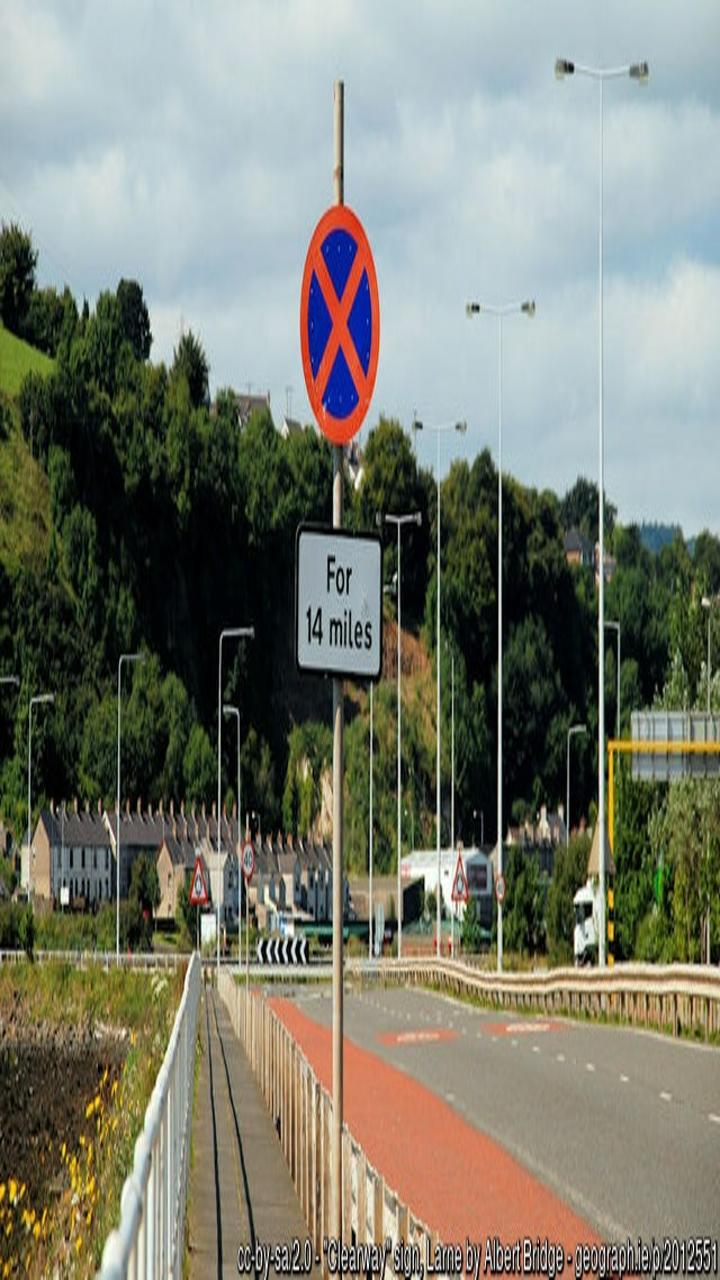Traffic sign: (258, 196, 426, 464)
